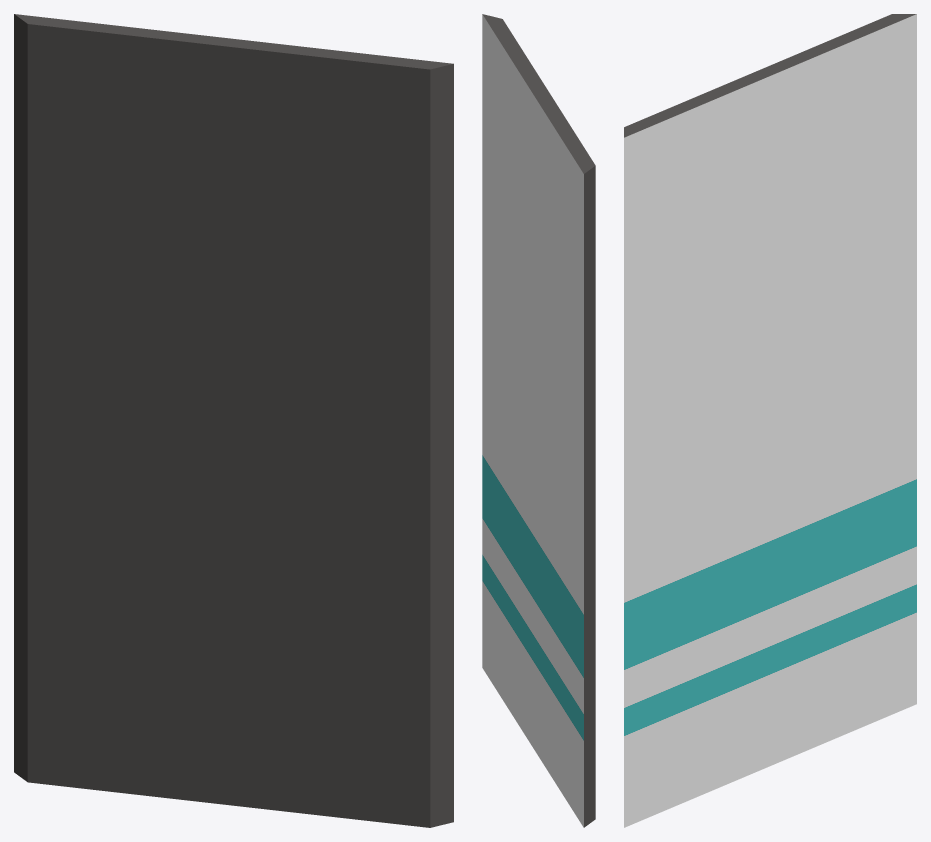
Rendered from diagonal_wall.gltf.
The picture shows the model from 3 angles, left to right: view 1: azimuth 30°, elevation 25°; view 2: azimuth 150°, elevation 25°; view 3: azimuth 270°, elevation 25°; orthographic projection. The views are drawn at different scales.
Visible parts, largest first — view 1: DiagonalWall; view 2: DiagonalWall; view 3: DiagonalWall.
Part boxes in pixels (x1,y1,x2,y2): DiagonalWall: [14, 14, 453, 827]; DiagonalWall: [482, 14, 595, 827]; DiagonalWall: [624, 14, 916, 827].
Size of the model in its own units: 1 by 2.6 by 1.
Materials: 2 (1 with a texture image).
